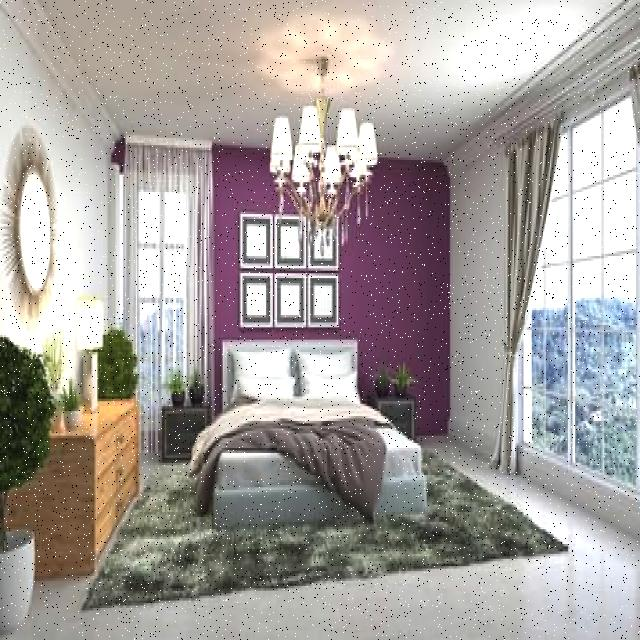bed: (199, 336, 428, 526)
